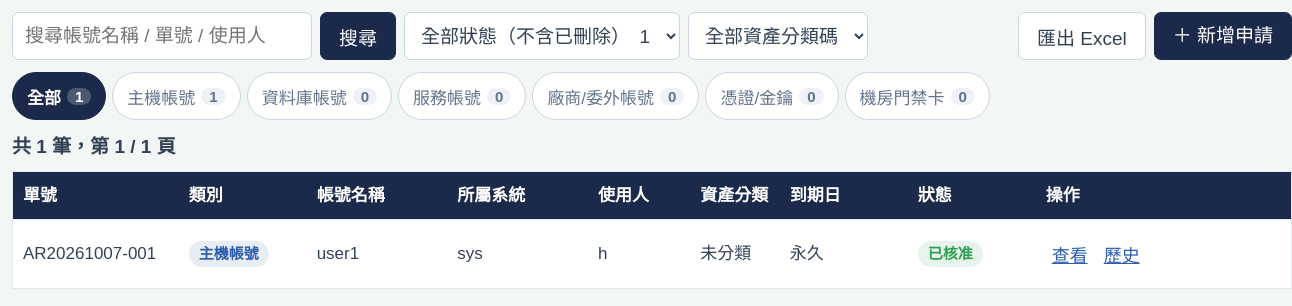
Scenario: 帳號列表：匯出 Excel 按鈕 › 匯出失敗：toast，按鈕恢復可按
What coordinates should you click on to do the following:
click the button with class "export-btn"
I would click on:
 (1082, 36)
Its box is [1018,12,1146,60].
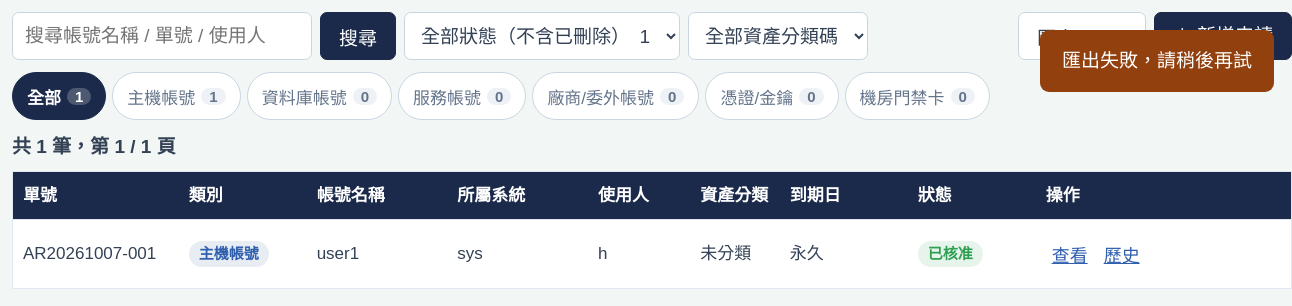
Result: the text with class "toast" reads "匯出失敗，請稍後再試" at [1062,50,1252,71]
